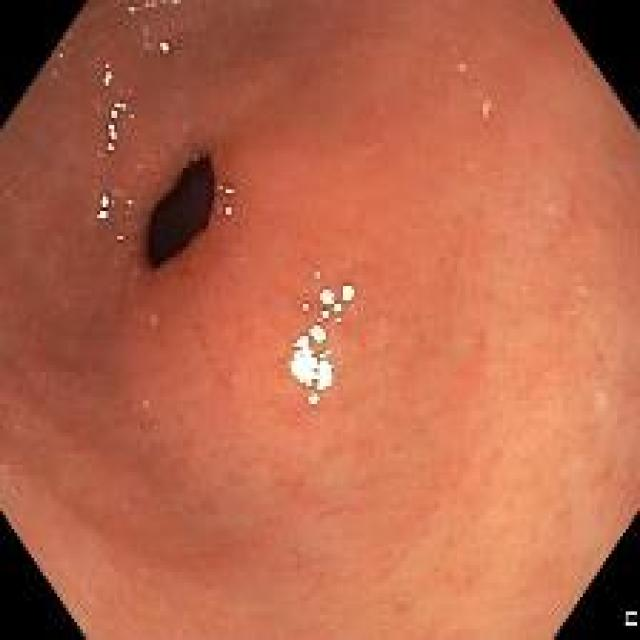bubbles: (215, 182, 234, 198), (213, 204, 232, 218)
contrast: (146, 153, 213, 271)
specularity: (288, 320, 334, 392), (317, 288, 343, 319), (106, 122, 117, 152), (340, 284, 355, 303), (306, 392, 321, 408), (110, 100, 124, 117), (101, 63, 112, 84), (158, 36, 170, 53), (98, 192, 108, 208), (95, 208, 107, 221), (299, 303, 312, 313), (311, 268, 321, 279), (224, 184, 231, 193), (224, 208, 230, 215), (313, 272, 320, 274)
